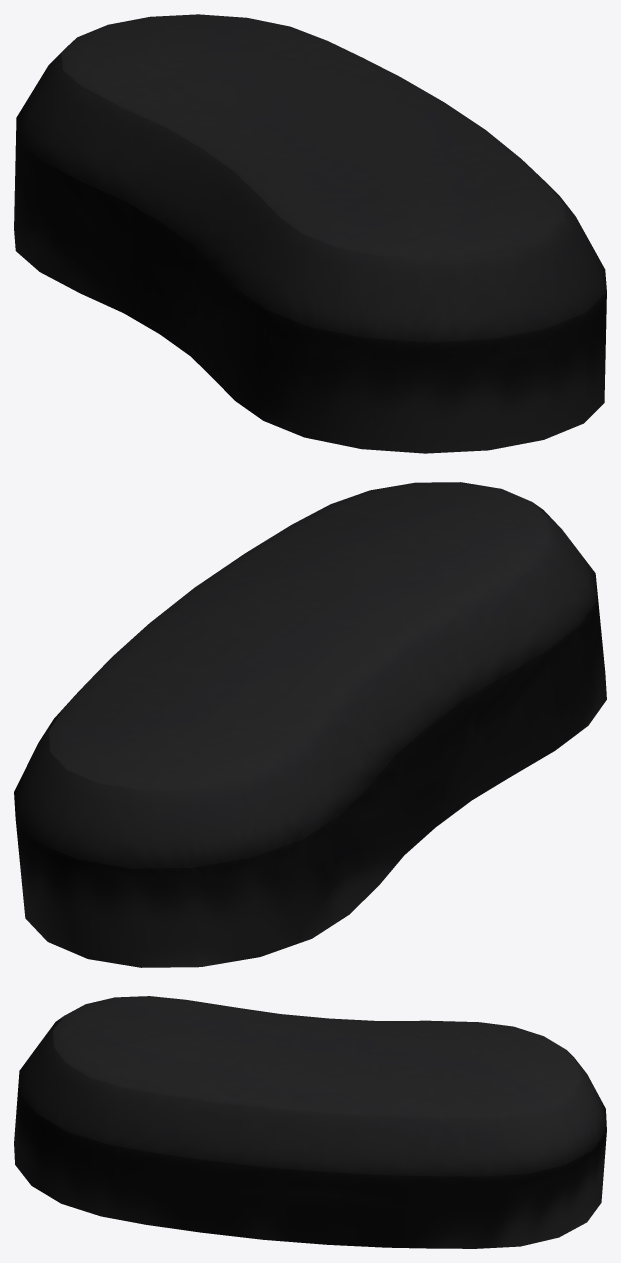
The model's file is button_a_right.obj.
3 views of the same model, one above another, from view 1: azimuth 30°, elevation 25°; view 2: azimuth 150°, elevation 25°; view 3: azimuth 270°, elevation 25° (orthographic). The views are drawn at different scales.
Parts seen in each view (by area): view 1: button_face_a; view 2: button_face_a; view 3: button_face_a.
Part boxes in pixels (x1=…): button_face_a: x1=14, y1=14, x2=606, y2=453; button_face_a: x1=14, y1=482, x2=606, y2=967; button_face_a: x1=14, y1=996, x2=606, y2=1248.
Size of the model in its own units: 0.00902 by 0.00562 by 0.0186.
Materials: 1 (1 with a texture image).
